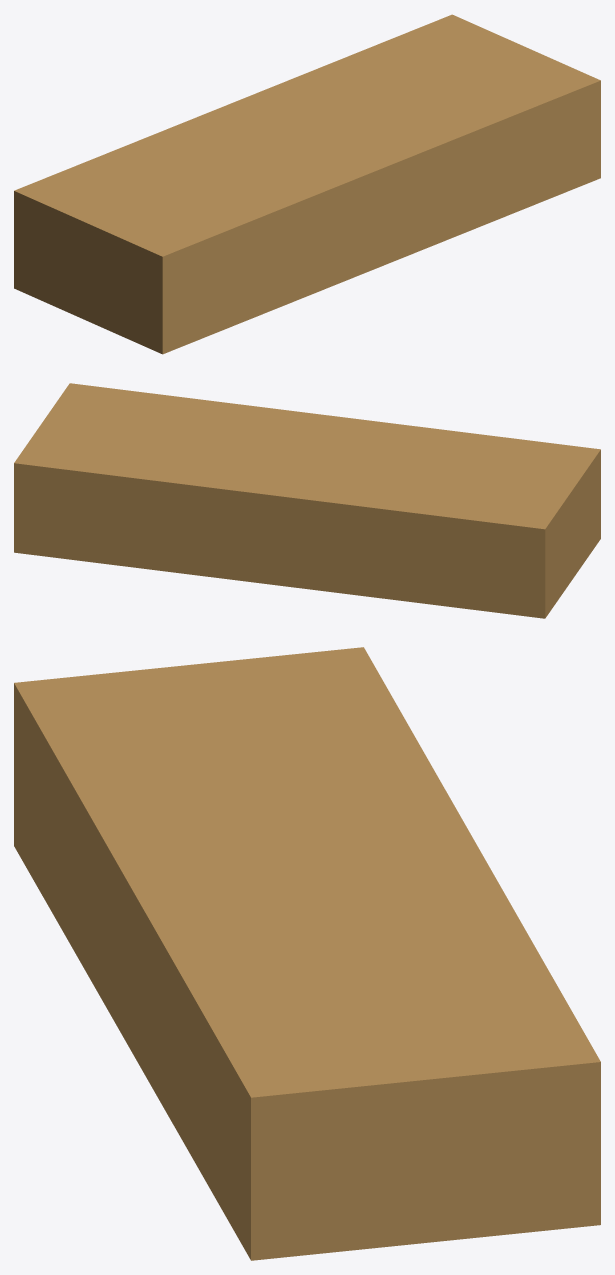
The picture shows the model from 3 angles, top to bottom: view 1: azimuth 30°, elevation 25°; view 2: azimuth 150°, elevation 25°; view 3: azimuth 270°, elevation 25°; orthographic projection. The views are drawn at different scales.
Visible parts, largest first — view 1: RUN-018-S02-NOG-00; view 2: RUN-018-S02-NOG-00; view 3: RUN-018-S02-NOG-00.
Boxes of the visible parts, bbox=[...] form: RUN-018-S02-NOG-00: bbox=[14, 14, 600, 354]; RUN-018-S02-NOG-00: bbox=[14, 383, 600, 618]; RUN-018-S02-NOG-00: bbox=[14, 647, 600, 1260].
Bounding box in the file's own units: 0.2666 × 0.045 × 0.1468.
